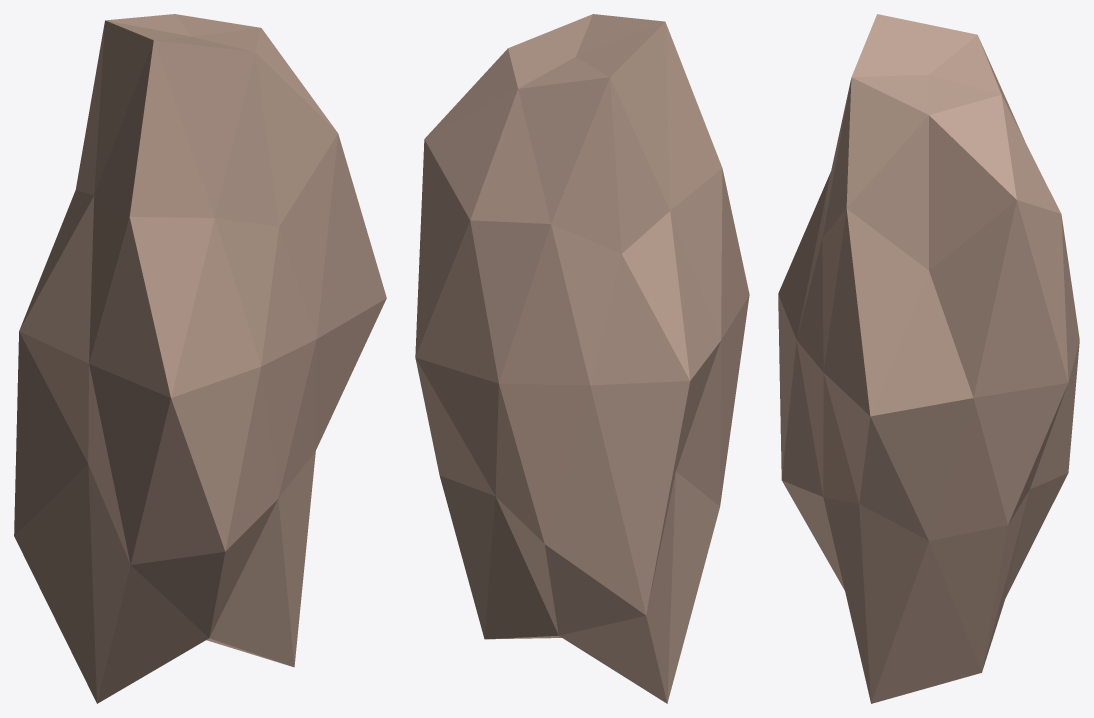
File: rock_b.glb
3 renders of one model, left to right at view 1: azimuth 30°, elevation 25°; view 2: azimuth 150°, elevation 25°; view 3: azimuth 270°, elevation 25°, orthographic. The views are drawn at different scales.
Visible parts, largest first — view 1: RockTall; view 2: RockTall; view 3: RockTall.
Part boxes in pixels (x1,y1,x2,y2): RockTall: (14, 14, 386, 703); RockTall: (415, 14, 749, 703); RockTall: (778, 14, 1079, 703).
Size of the model in its own units: 1.48 by 3.08 by 1.31.
